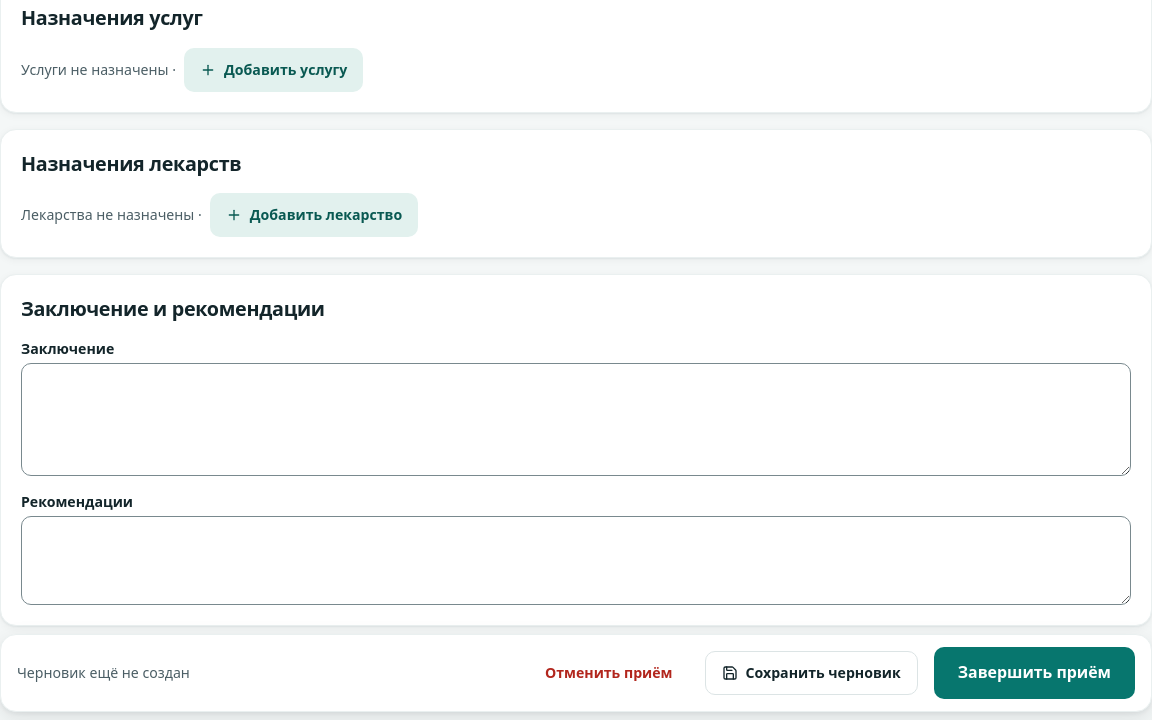
it: EncounterCompleteForm draft (A8) › should save the draft after a pause in typing and say when
(page scrolled)
Type "ОРВИ" into the text box labelled "Заключение". click: (576, 419)
box: x1=21 y1=363 x2=1131 y2=476
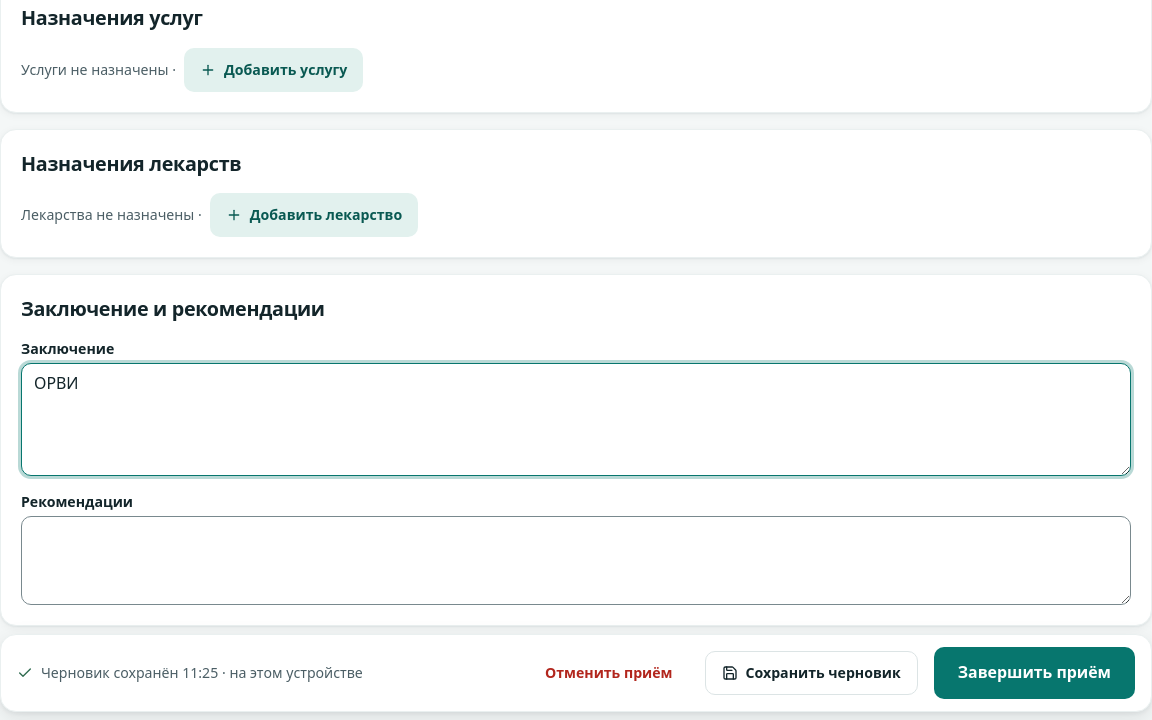
Check: the text "Черновик сохранён 11:25 · на этом устройстве" is shown, box x1=17 y1=663 x2=363 y2=682
